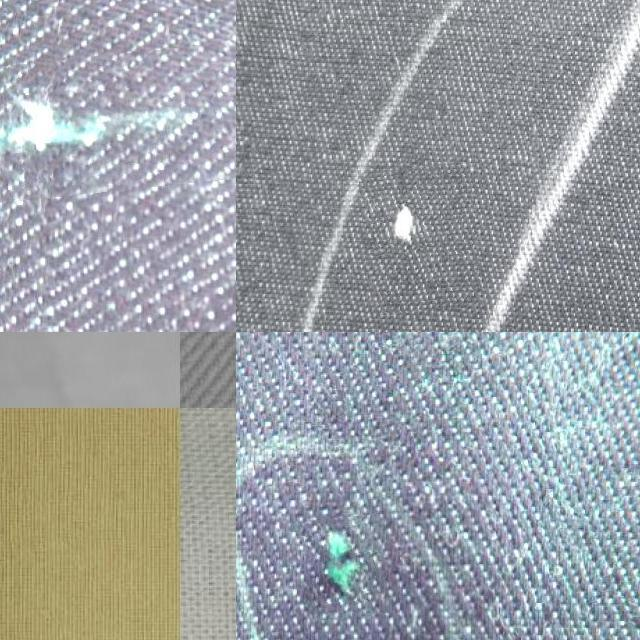Thread_other: (0, 43, 236, 198), (362, 164, 480, 314), (302, 516, 388, 620)
